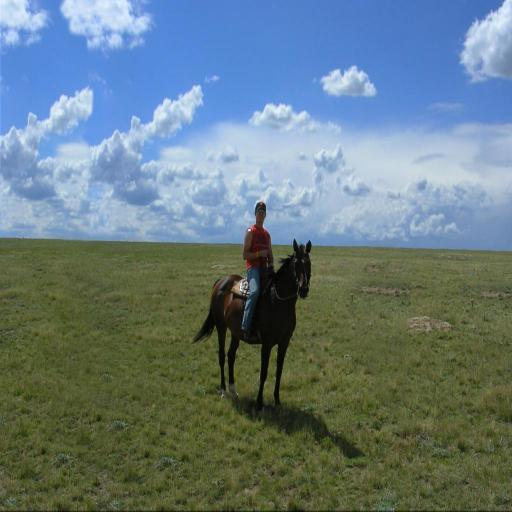horse: (188, 234, 313, 410)
